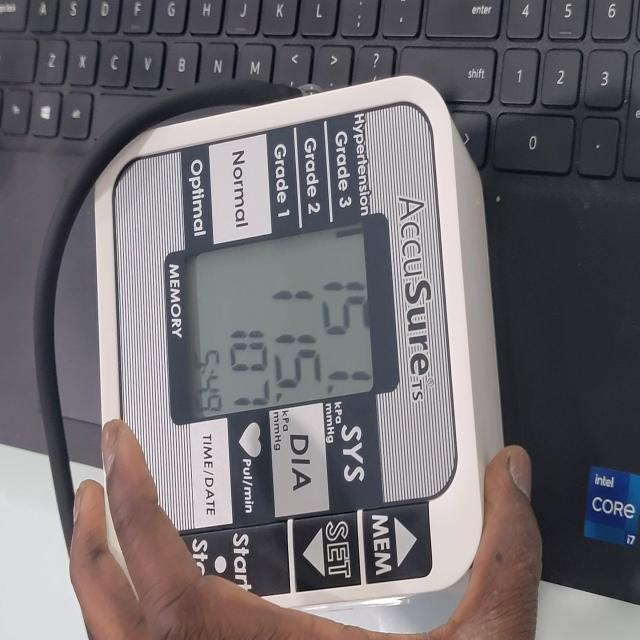bp: (69, 76, 503, 637)
